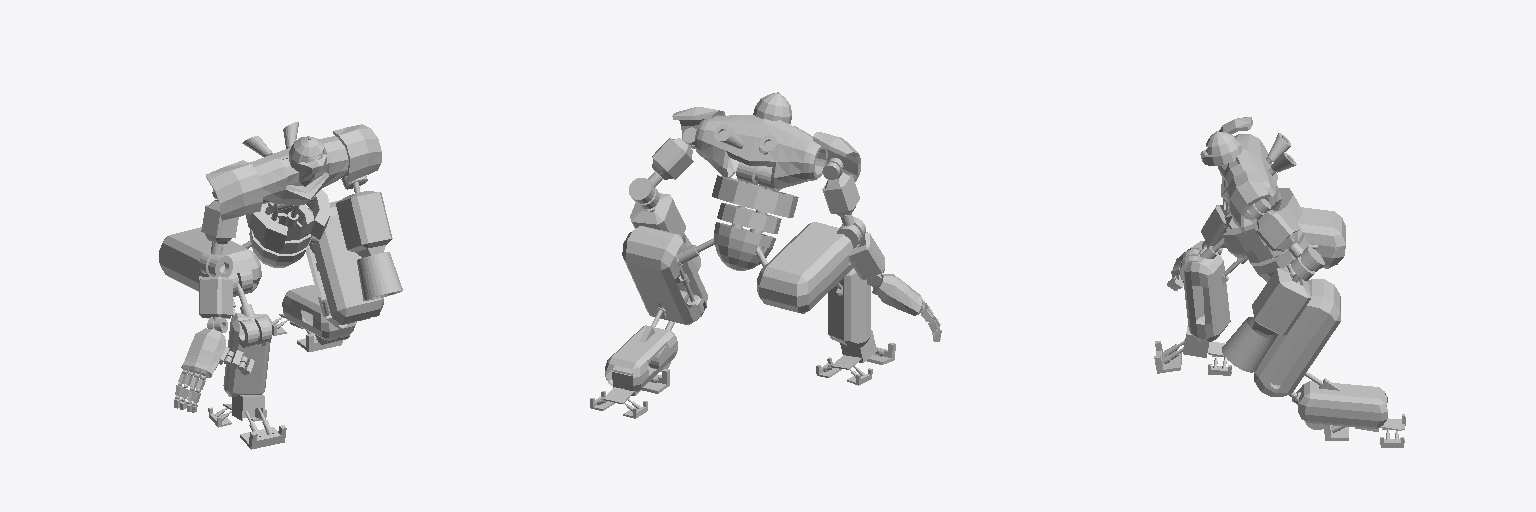
File: BLP1.obj
3 views of the same model, side by side, from view 1: azimuth 30°, elevation 25°; view 2: azimuth 150°, elevation 25°; view 3: azimuth 270°, elevation 25° (orthographic).
Visible parts, largest first — view 1: Cylinder.037_Cylinder.041, Cylinder.004_Cylinder.012, Cylinder.006_Cylinder.005, Cylinder.000_Cylinder.003, Cylinder.010_Cylinder.009, Cylinder.012_Cylinder.011, Cylinder.007_Cylinder.006, Cylinder.014, Cylinder.008_Cylinder.007, Cylinder.009_Cylinder.008, Cylinder.003_Cylinder.002, Cylinder.011_Cylinder.010 (+2 smaller); view 2: Cylinder.037_Cylinder.041, Cylinder.000_Cylinder.003, Cylinder.010_Cylinder.009, Cylinder.004_Cylinder.012, Cylinder.012_Cylinder.011, Cylinder.014, Cylinder.005_Cylinder.004, Cylinder.007_Cylinder.006, Cylinder.006_Cylinder.005, Cylinder.009_Cylinder.008, Cylinder.008_Cylinder.007, Cylinder.003_Cylinder.002 (+3 smaller); view 3: Cylinder.004_Cylinder.012, Cylinder.037_Cylinder.041, Cylinder.006_Cylinder.005, Cylinder.014, Cylinder.012_Cylinder.011, Cylinder.000_Cylinder.003, Cylinder.005_Cylinder.004, Cylinder.010_Cylinder.009, Cylinder.003_Cylinder.002, Cylinder.008_Cylinder.007, Cylinder.011_Cylinder.010, Cylinder.020 (+1 smaller).
Boxes of the visible parts, <box> form: Cylinder.037_Cylinder.041: <box>206,122,381,220</box>; Cylinder.004_Cylinder.012: <box>306,200,383,326</box>; Cylinder.006_Cylinder.005: <box>336,182,402,300</box>; Cylinder.000_Cylinder.003: <box>242,189,330,267</box>; Cylinder.010_Cylinder.009: <box>159,227,261,296</box>; Cylinder.012_Cylinder.011: <box>223,313,271,396</box>; Cylinder.007_Cylinder.006: <box>199,189,238,277</box>; Cylinder.014: <box>282,285,356,339</box>; Cylinder.008_Cylinder.007: <box>199,276,232,332</box>; Cylinder.009_Cylinder.008: <box>181,328,229,377</box>; Cylinder.003_Cylinder.002: <box>289,136,326,173</box>; Cylinder.011_Cylinder.010: <box>232,283,271,347</box>; Cylinder.037_Cylinder.041: <box>672,107,860,189</box>; Cylinder.000_Cylinder.003: <box>675,162,798,270</box>; Cylinder.010_Cylinder.009: <box>757,222,859,313</box>; Cylinder.004_Cylinder.012: <box>622,226,707,324</box>; Cylinder.012_Cylinder.011: <box>828,268,870,348</box>; Cylinder.014: <box>605,325,677,391</box>; Cylinder.005_Cylinder.004: <box>629,127,696,208</box>; Cylinder.007_Cylinder.006: <box>822,158,865,248</box>; Cylinder.006_Cylinder.005: <box>630,193,700,282</box>; Cylinder.009_Cylinder.008: <box>874,274,922,315</box>; Cylinder.008_Cylinder.007: <box>849,232,884,286</box>; Cylinder.003_Cylinder.002: <box>753,92,791,123</box>; Cylinder.004_Cylinder.012: <box>1254,279,1340,396</box>; Cylinder.037_Cylinder.041: <box>1218,117,1296,232</box>; Cylinder.006_Cylinder.005: <box>1222,268,1311,372</box>; Cylinder.014: <box>1298,381,1387,428</box>; Cylinder.012_Cylinder.011: <box>1184,249,1230,342</box>; Cylinder.000_Cylinder.003: <box>1223,188,1308,281</box>; Cylinder.005_Cylinder.004: <box>1248,199,1324,280</box>; Cylinder.010_Cylinder.009: <box>1224,207,1345,268</box>; Cylinder.003_Cylinder.002: <box>1200,131,1241,165</box>; Cylinder.008_Cylinder.007: <box>1201,205,1226,254</box>; Cylinder.011_Cylinder.010: <box>1180,237,1247,284</box>; Cylinder.020: <box>1154,340,1184,373</box>.
Size of the model in its own units: 13.56 by 13.8 by 11.58.